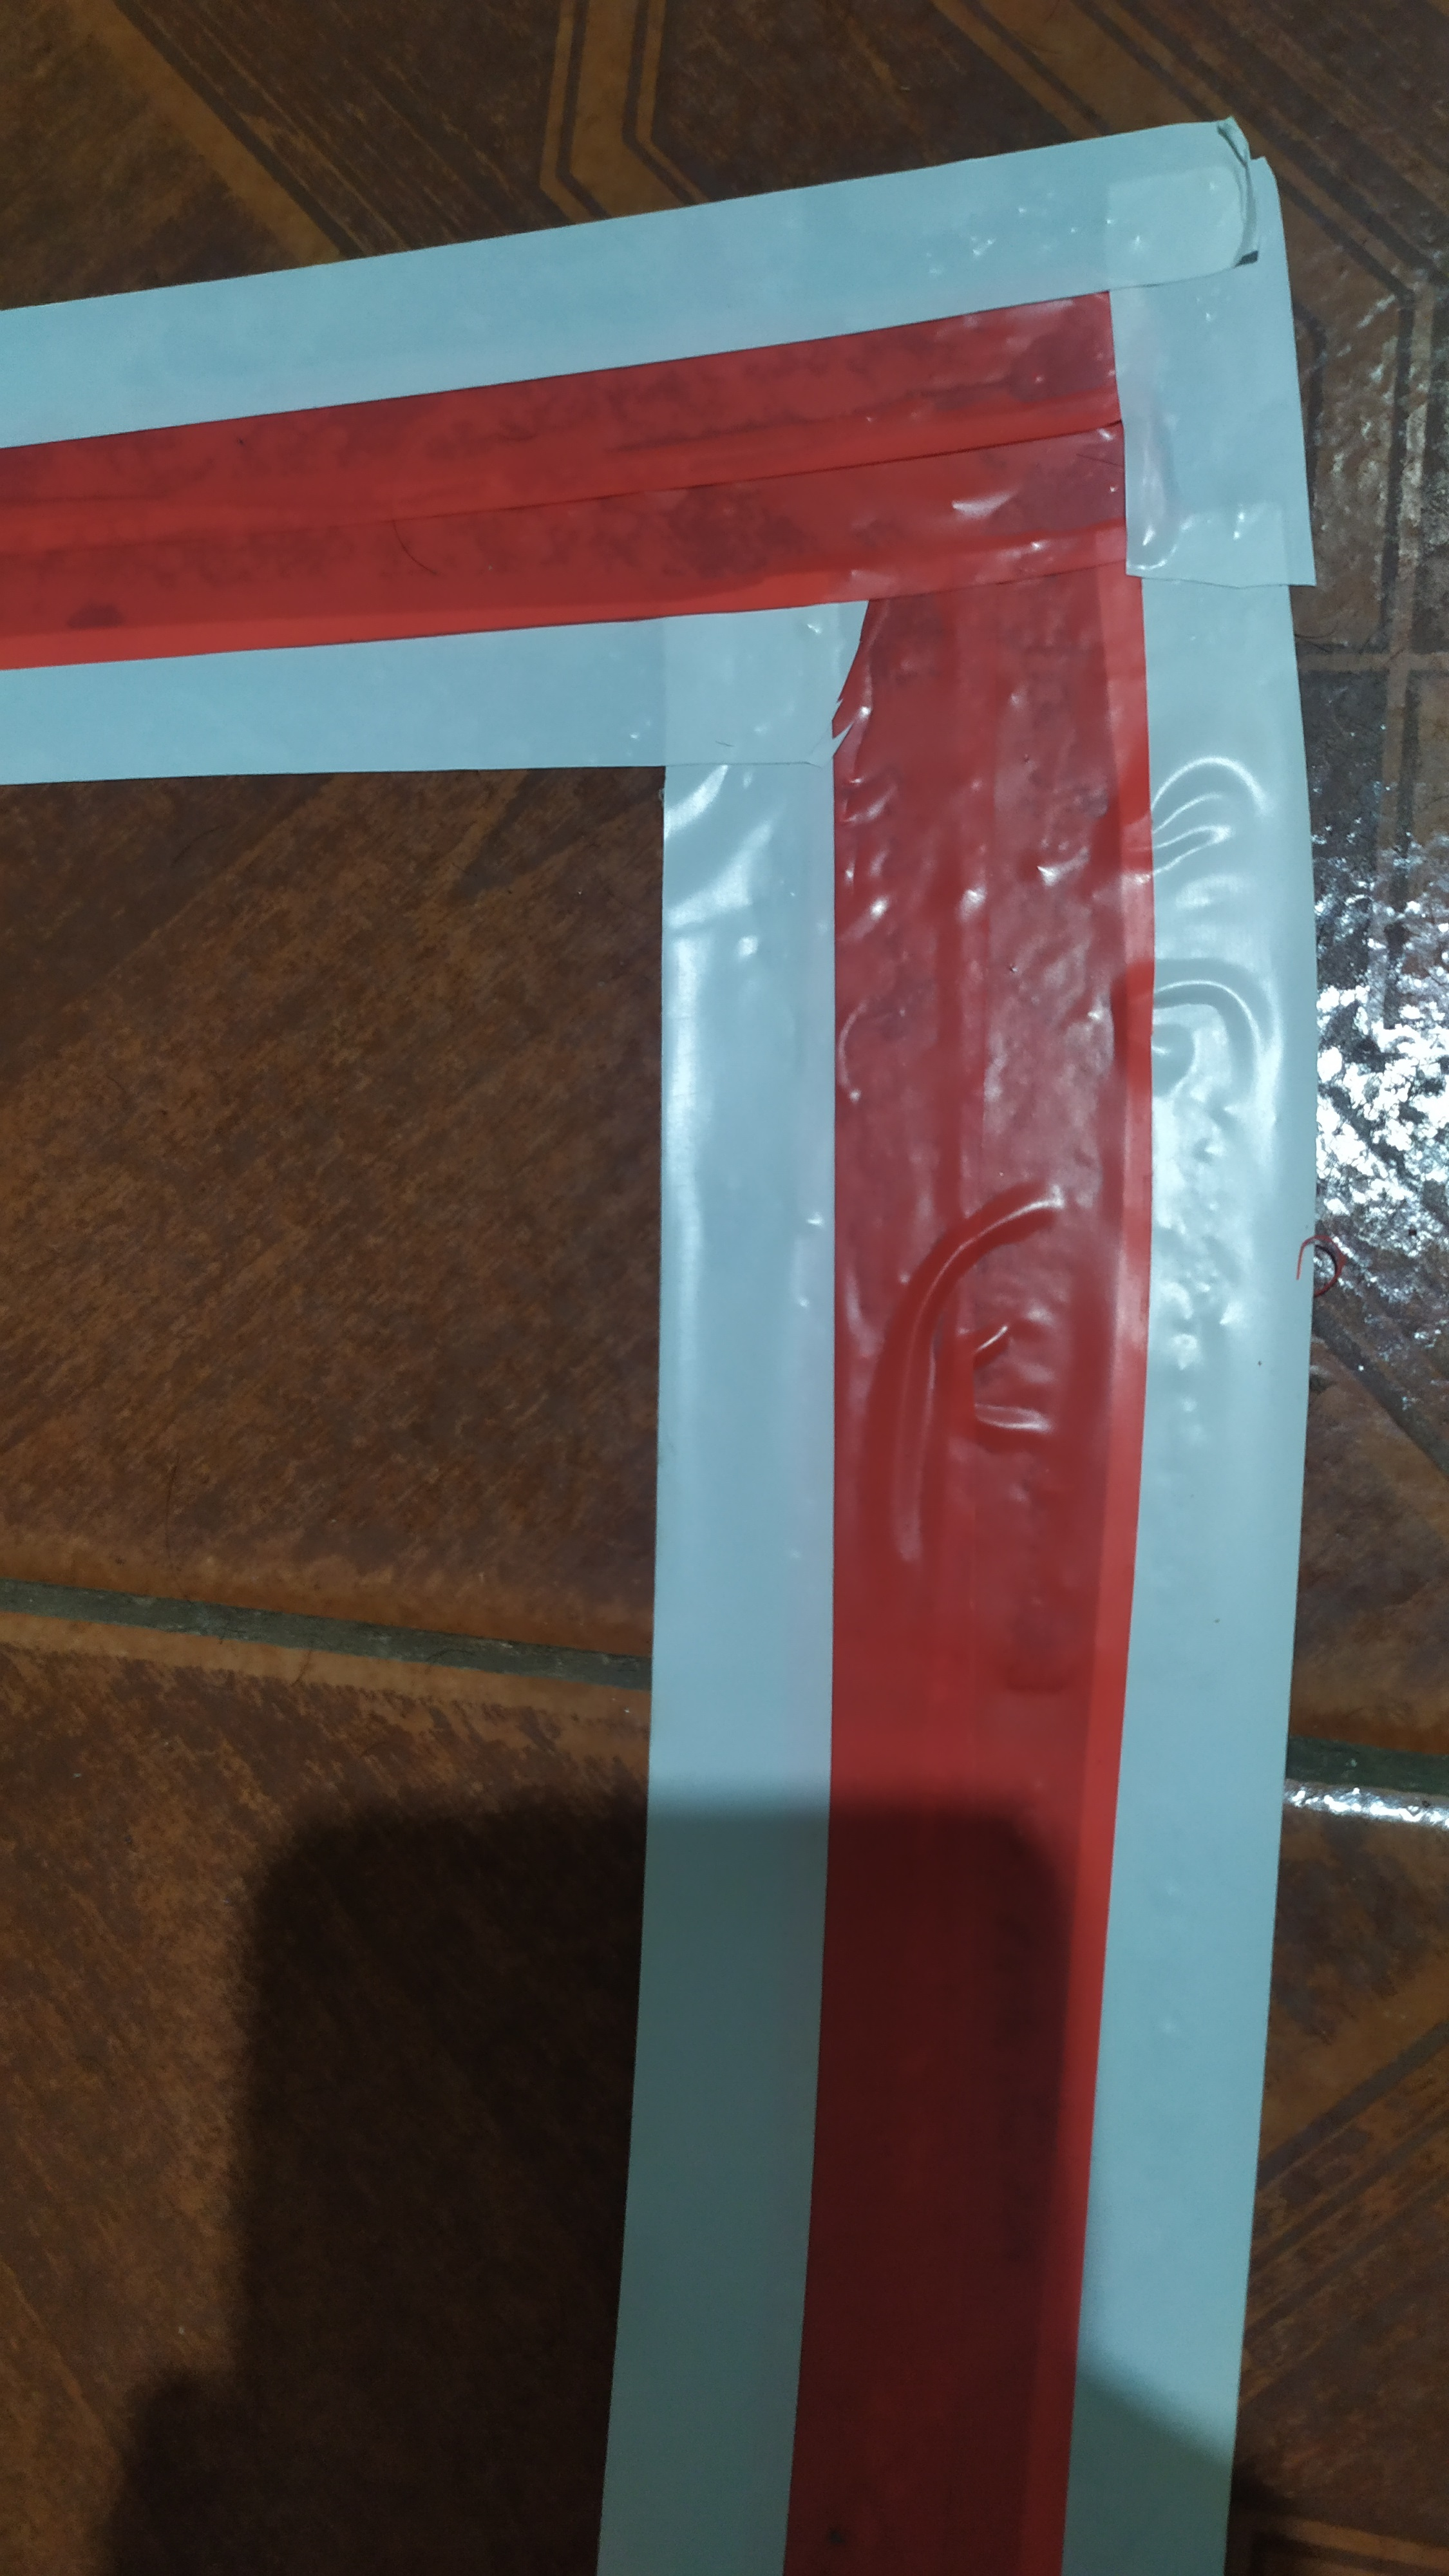faixa_esquerda: (14, 78, 1283, 2576)
